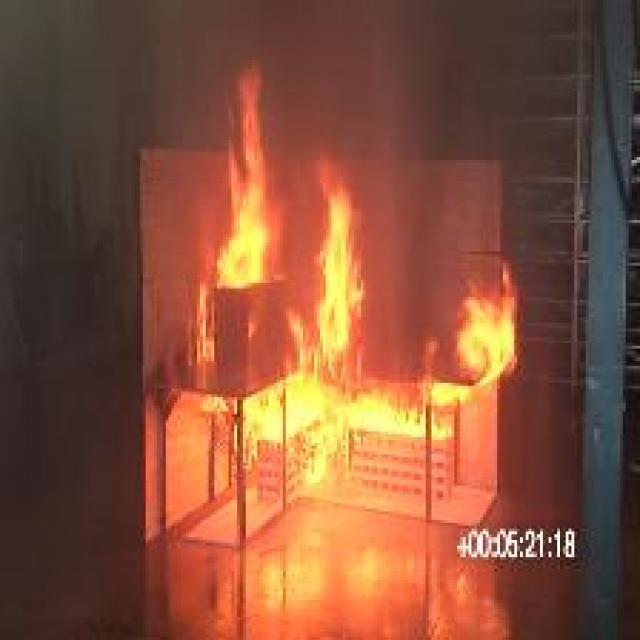Fire: (198, 282, 516, 484), (214, 66, 280, 286), (311, 148, 363, 378)
